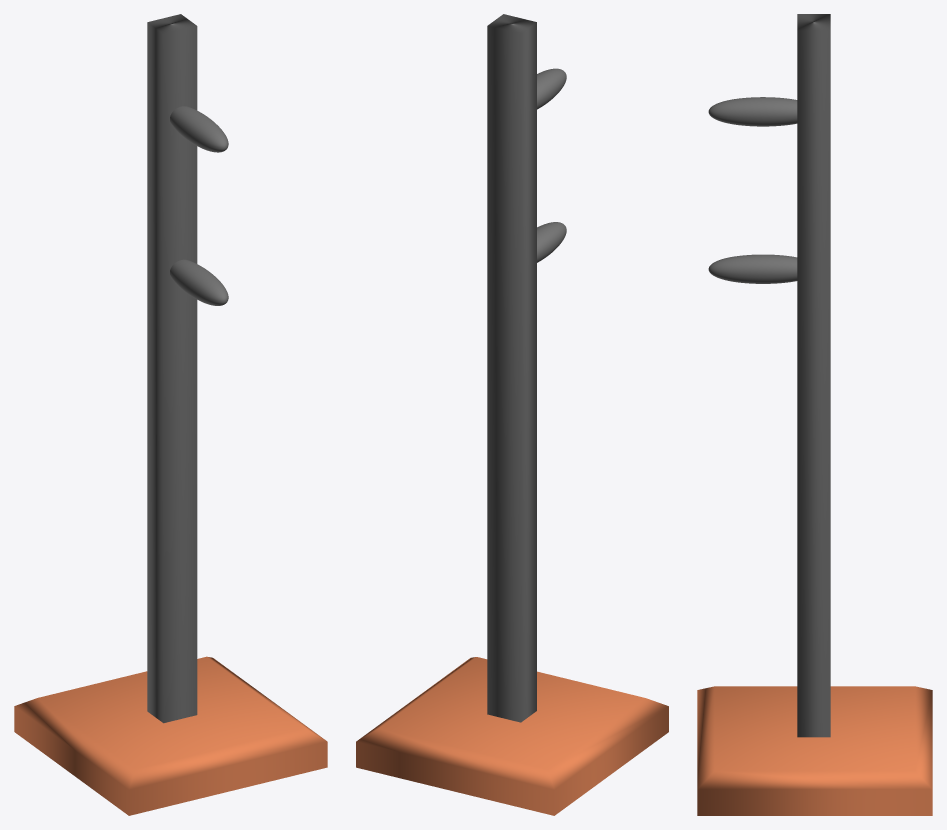
File: baseCuerpo.fbx
The picture shows the model from 3 angles, left to right: view 1: azimuth 30°, elevation 25°; view 2: azimuth 150°, elevation 25°; view 3: azimuth 270°, elevation 25°; orthographic projection. The views are drawn at different scales.
Parts seen in each view (by area): view 1: Cubo; view 2: Cubo; view 3: Cubo.
Boxes of the visible parts, left/top/right/bottom form: Cubo: left=14, top=14, right=327, bottom=815; Cubo: left=356, top=14, right=668, bottom=815; Cubo: left=697, top=14, right=932, bottom=815.
Bounding box in the file's own units: 248 × 865 × 248.
